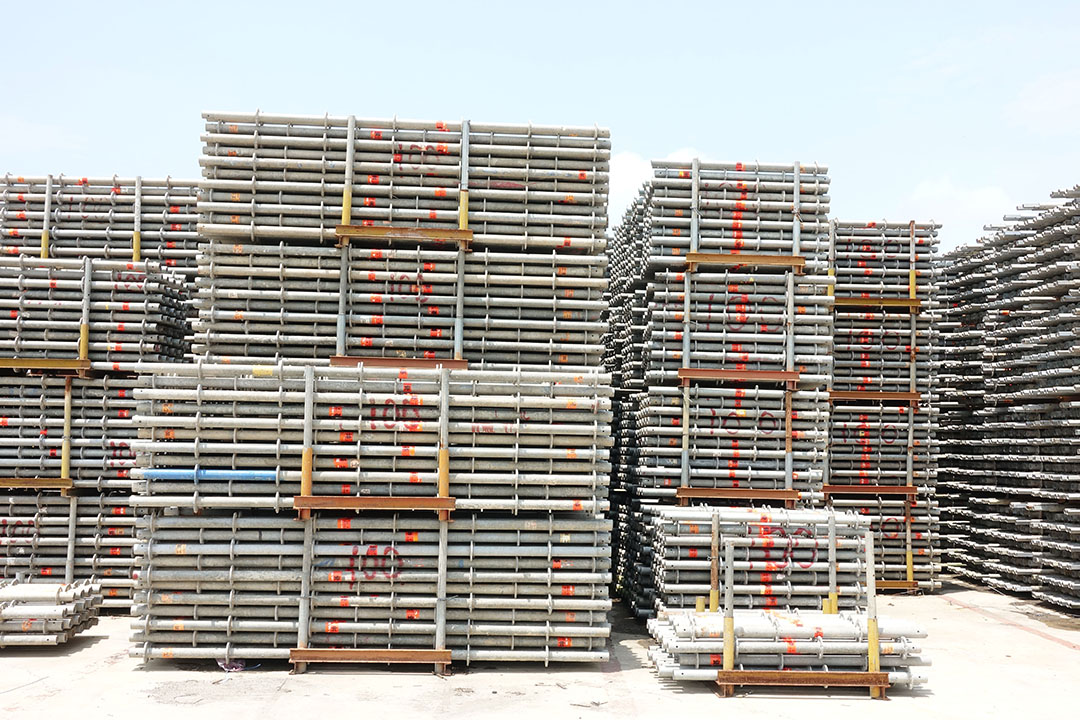building materials: (132, 360, 613, 521), (129, 515, 612, 675), (197, 106, 611, 254), (193, 240, 612, 372), (658, 509, 872, 642), (647, 269, 832, 390), (646, 384, 825, 508), (649, 157, 834, 275), (833, 218, 942, 314), (831, 402, 937, 500), (832, 313, 942, 406)
